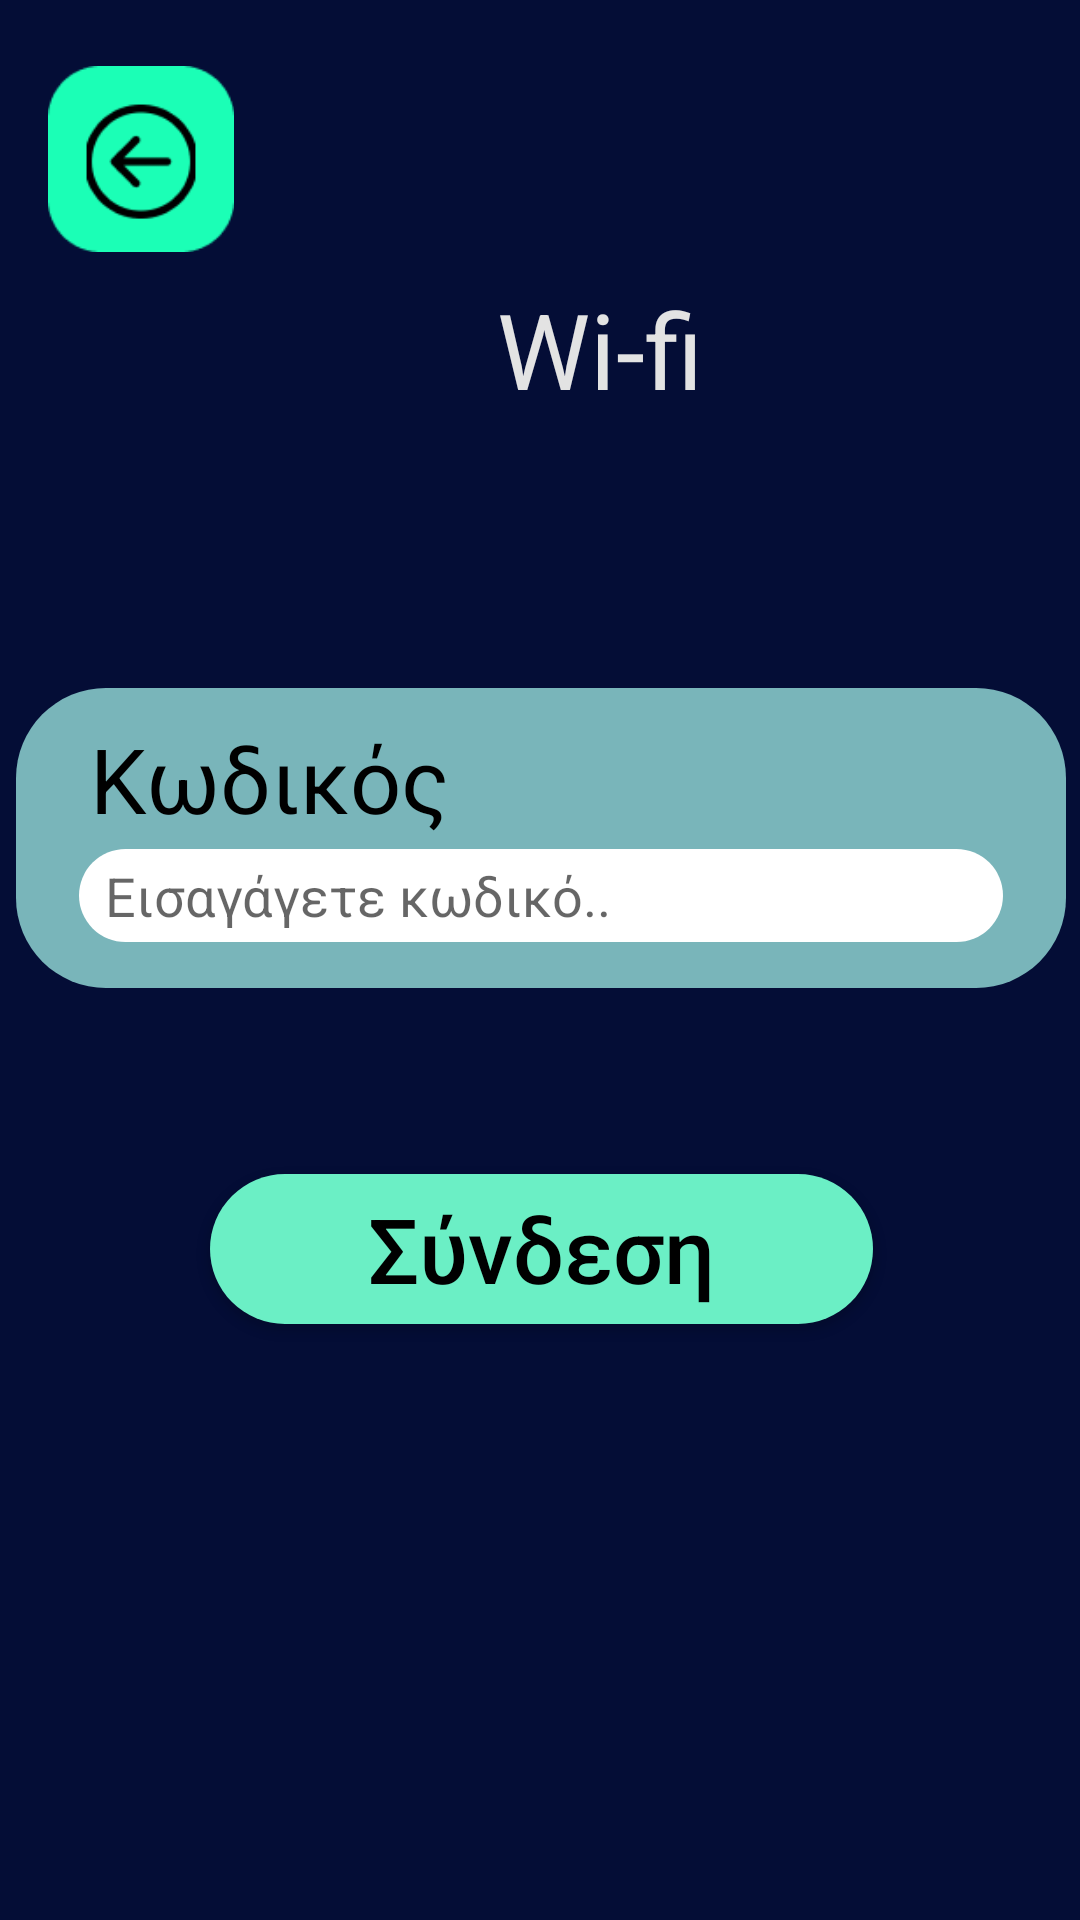

Locate icon controls on the screen. Image size 1080*1920, boxes as (x1, y1, x2, y2).
back: (48, 66, 234, 252)
